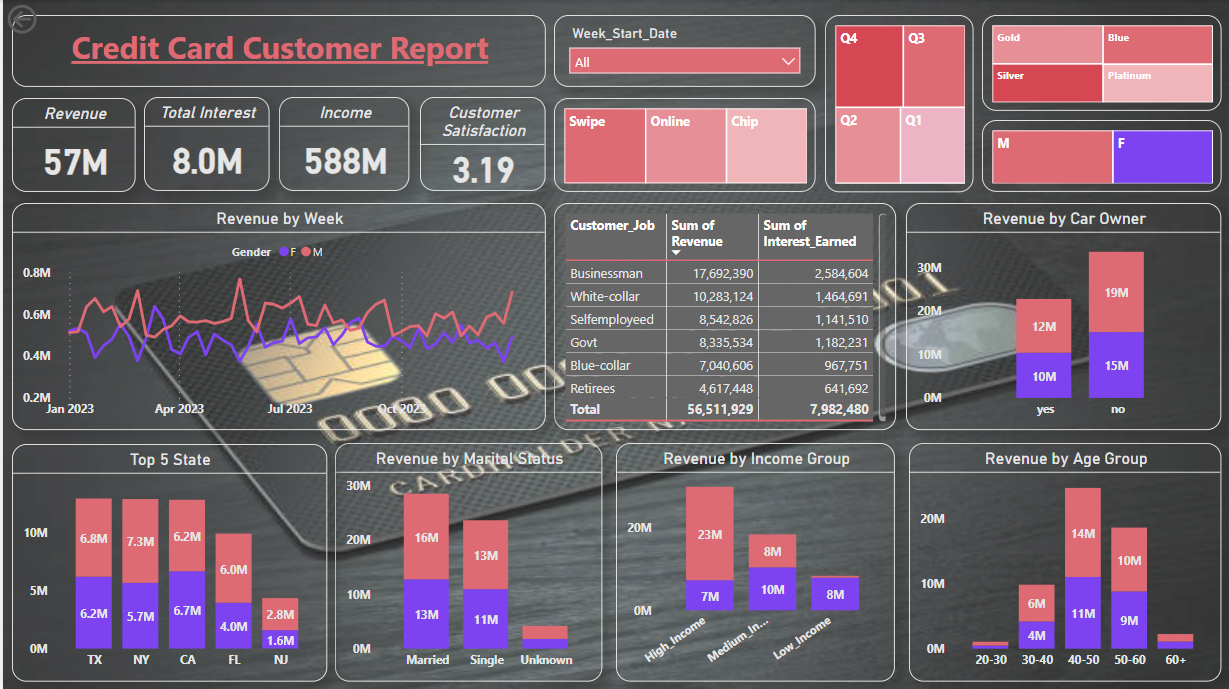

The page's visual inventory and layout, read from the dashboard file:
{"tool":"powerbi","page":{"name":"CC Customer Report","canvas":[1280,720],"ordinal":1},"visuals":[{"type":"columnChart","title":"Revenue by Marital Status","fields":{"Y":["Sum(credit_card_details.Revenue)"],"Category":["customer_details.Marital_Status"],"Series":["customer_details.Gender"]},"box":[346.5,462.4,279,248.6],"z":0},{"type":"tableEx","fields":{"Values":["customer_details.Customer_Job","Sum(credit_card_details.Revenue)","Sum(credit_card_details.Interest_Earned)"]},"box":[574.9,211.5,356.6,237.4],"z":1000},{"type":"columnChart","title":"Revenue by Income Group","fields":{"Category":["customer_details.Income_Group"],"Y":["Sum(credit_card_details.Revenue)"],"Series":["customer_details.Gender"]},"box":[640.1,462.4,291.4,248.6],"z":2000},{"type":"textbox","box":[9,15.8,556.9,75.4],"z":3000},{"type":"card","title":"Income","fields":{"Values":["Sum(customer_details.Income)"]},"box":[288,101.2,136.1,97.9],"z":4000},{"type":"card","title":"Revenue","fields":{"Values":["Sum(credit_card_details.Revenue)"]},"box":[9,102.4,129.4,97.9],"z":5000},{"type":"card","title":"Customer Satisfaction","fields":{"Values":["Avg(customer_details.Cust_Satisfaction_Score)"]},"box":[435.4,101.2,130.5,97.9],"z":6000},{"type":"treemap","fields":{"Values":["Avg(credit_card_details.Client_Num)"],"Group":["credit_card_details.Qtr"]},"box":[857.2,15.8,155.2,184.5],"z":7000},{"type":"treemap","fields":{"Values":["Avg(credit_card_details.Client_Num)"],"Group":["credit_card_details.Card_Category"]},"box":[1021.5,15.8,249.8,100.1],"z":8000},{"type":"slicer","fields":{"Values":["credit_card_details.Week_Start_Date"]},"box":[574.9,15.8,273.4,75.4],"z":9000},{"type":"treemap","fields":{"Values":["Avg(credit_card_details.Client_Num)"],"Group":["credit_card_details.Use Chip"]},"box":[574.9,102.4,273.4,97.9],"z":10000},{"type":"columnChart","title":"Revenue by Age Group","fields":{"Y":["Sum(credit_card_details.Revenue)"],"Category":["customer_details.Age_Group"],"Series":["customer_details.Gender"]},"box":[945,462.4,326.2,248.6],"z":11000},{"type":"lineChart","title":"Revenue by Week","fields":{"Category":["credit_card_details.Week_Start_Date.Variation.Date Hierarchy.Year","credit_card_details.Week_Start_Date.Variation.Date Hierarchy.Month","credit_card_details.Week_Start_Date.Variation.Date Hierarchy.Day"],"Y":["Sum(credit_card_details.Revenue)"],"Series":["customer_details.Gender"]},"box":[9,211.5,556.9,237.4],"z":12000},{"type":"treemap","fields":{"Group":["customer_details.Gender"],"Values":["Sum(credit_card_details.Revenue)"]},"box":[1021.5,124.9,249.8,75.4],"z":13000},{"type":"actionButton","box":[0,0,100,40],"z":14000},{"type":"columnChart","title":"Top 5 State","fields":{"Y":["Sum(credit_card_details.Revenue)"],"Category":["customer_details.state_cd"],"Series":["customer_details.Gender"]},"box":[9,463.5,328.5,247.5],"z":15000},{"type":"columnChart","title":"Revenue by Car Owner","fields":{"Category":["customer_details.Car_Owner"],"Series":["customer_details.Gender"],"Y":["Sum(credit_card_details.Revenue)"]},"box":[942.8,211.5,328.5,237.4],"z":16000},{"type":"card","title":"Total Interest","fields":{"Values":["Sum(credit_card_details.Interest_Earned)"]},"box":[147.4,101.2,130.5,97.9],"z":17000}]}

Visuals, with their boxes in screenshot pixels (x1, y1, x2, y2), scaled from the page's 1280x720 canvas onto the 1229x689 screenshot:
"Revenue by Marital Status" columnChart: crop(333, 442, 601, 680)
tableEx - customer_details.Customer_Job x Sum(credit_card_details.Revenue): crop(552, 202, 894, 430)
"Revenue by Income Group" columnChart: crop(615, 442, 894, 680)
textbox: crop(9, 15, 543, 87)
"Income" card: crop(277, 97, 407, 191)
"Revenue" card: crop(9, 98, 133, 192)
"Customer Satisfaction" card: crop(418, 97, 543, 191)
treemap - Avg(credit_card_details.Client_Num) x credit_card_details.Qtr: crop(823, 15, 972, 192)
treemap - Avg(credit_card_details.Client_Num) x credit_card_details.Card_Category: crop(981, 15, 1221, 111)
slicer - credit_card_details.Week_Start_Date: crop(552, 15, 815, 87)
treemap - Avg(credit_card_details.Client_Num) x credit_card_details.Use Chip: crop(552, 98, 815, 192)
"Revenue by Age Group" columnChart: crop(907, 442, 1221, 680)
"Revenue by Week" lineChart: crop(9, 202, 543, 430)
treemap - customer_details.Gender x Sum(credit_card_details.Revenue): crop(981, 120, 1221, 192)
actionButton: crop(0, 0, 96, 38)
"Top 5 State" columnChart: crop(9, 444, 324, 680)
"Revenue by Car Owner" columnChart: crop(905, 202, 1221, 430)
"Total Interest" card: crop(142, 97, 267, 191)
